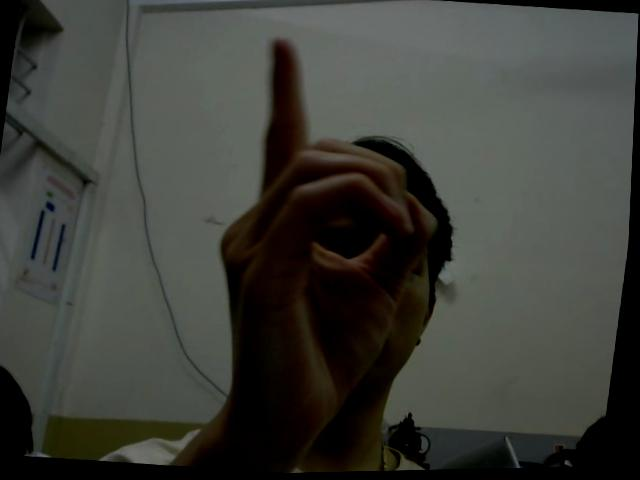D: (198, 25, 463, 439)
